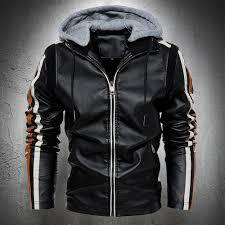jacket: (25, 4, 200, 213)
